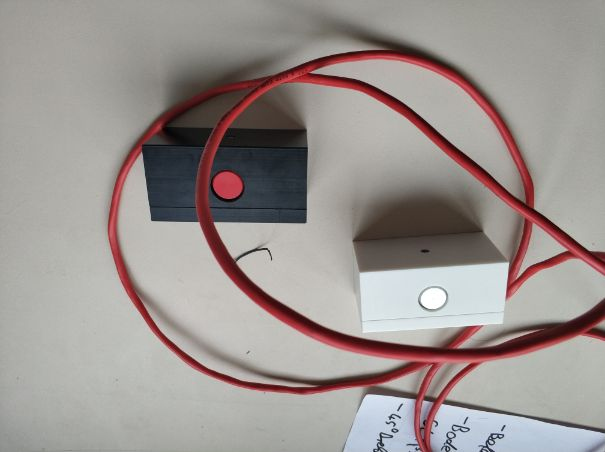black+black+red: (140, 124, 311, 227)
white+white+silver: (348, 228, 507, 334)
